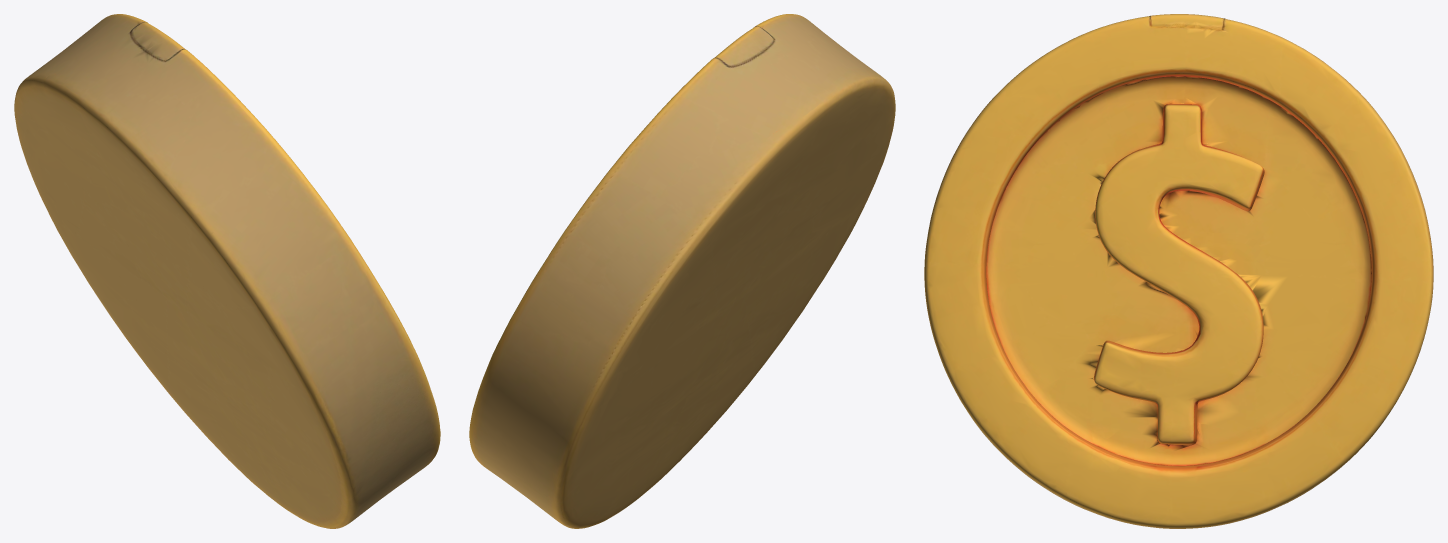
File: coin.glb
The picture shows the model from 3 angles, left to right: view 1: azimuth 30°, elevation 25°; view 2: azimuth 150°, elevation 25°; view 3: azimuth 270°, elevation 25°; orthographic projection. The views are drawn at different scales.
Visible parts, largest first — view 1: tripo_node_eaa35903-68b9-4b0e-928b-77688b3cd50d; view 2: tripo_node_eaa35903-68b9-4b0e-928b-77688b3cd50d; view 3: tripo_node_eaa35903-68b9-4b0e-928b-77688b3cd50d.
Part boxes in pixels (box(x1,y1,x2,y2)): tripo_node_eaa35903-68b9-4b0e-928b-77688b3cd50d: box(14, 14, 440, 528); tripo_node_eaa35903-68b9-4b0e-928b-77688b3cd50d: box(469, 14, 895, 528); tripo_node_eaa35903-68b9-4b0e-928b-77688b3cd50d: box(924, 14, 1433, 528).
Bounding box in the file's own units: 0.0306 × 0.05 × 0.0502.
Materials: 1 (1 with a texture image).
